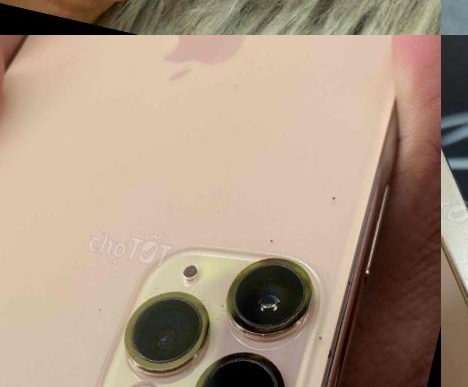scratch: (110, 261, 227, 376), (221, 241, 324, 344), (441, 92, 468, 343), (302, 317, 349, 385), (312, 171, 350, 206), (255, 227, 284, 249)
